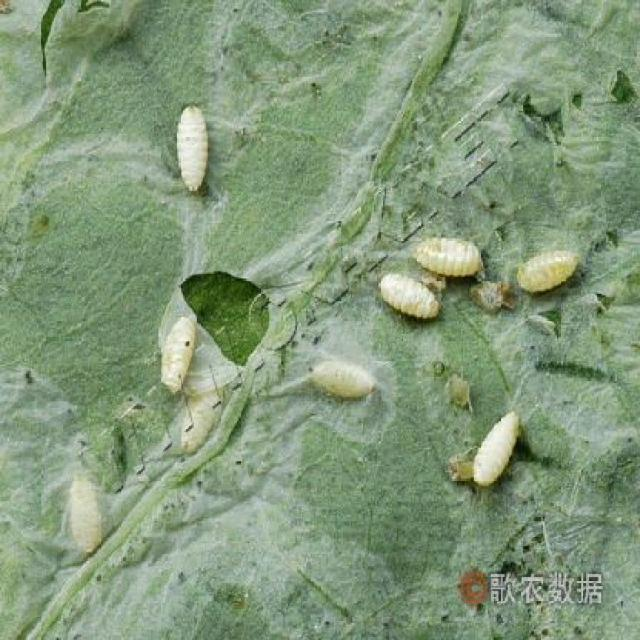whorl-maggot: (151, 91, 218, 200), (511, 236, 602, 290), (58, 472, 114, 556), (302, 351, 386, 406), (148, 316, 205, 396), (376, 266, 442, 334), (409, 228, 483, 288), (474, 403, 523, 492)
